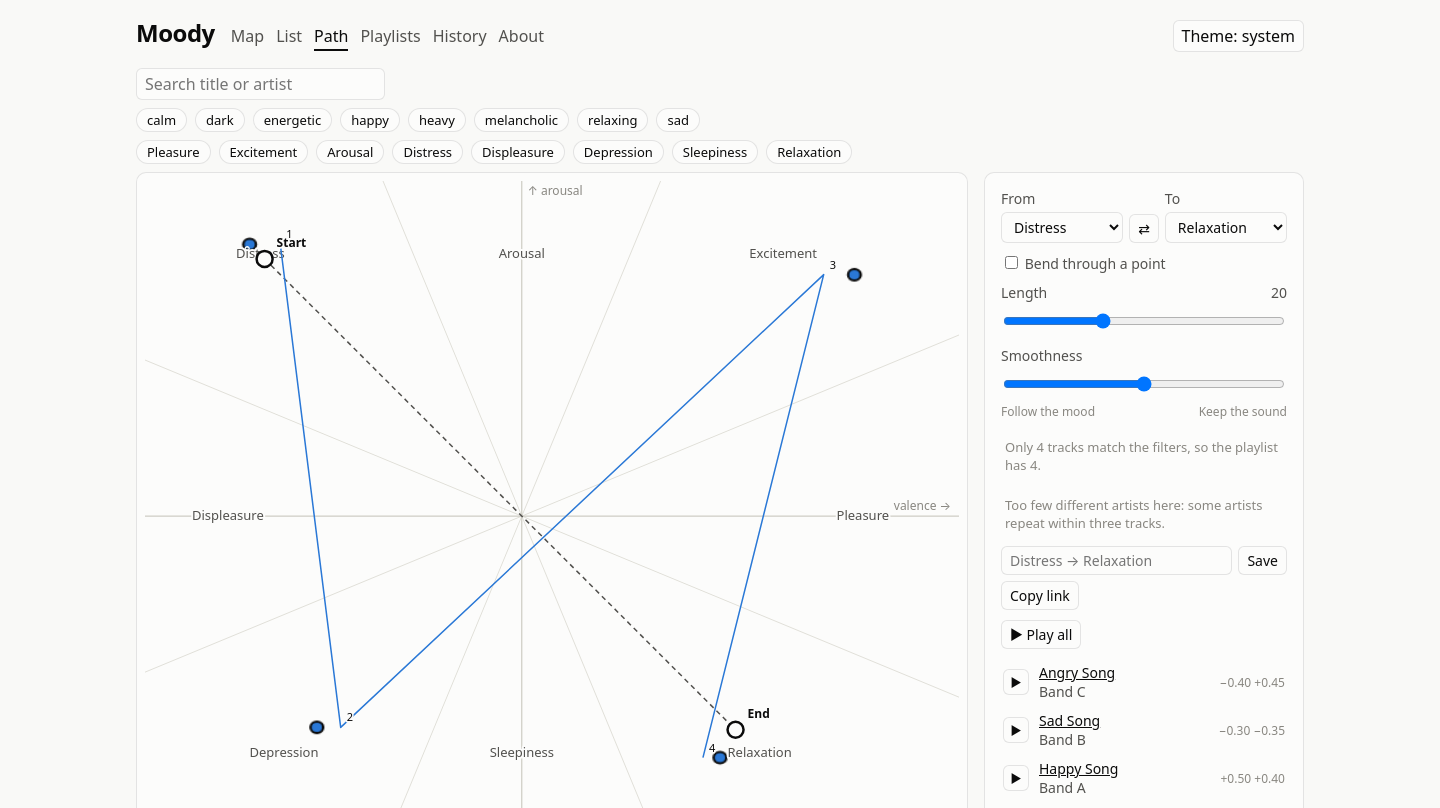
Test: plays the playlist in order
Click the button "▶ Play all" at (1041, 634), box [1001, 620, 1081, 649]
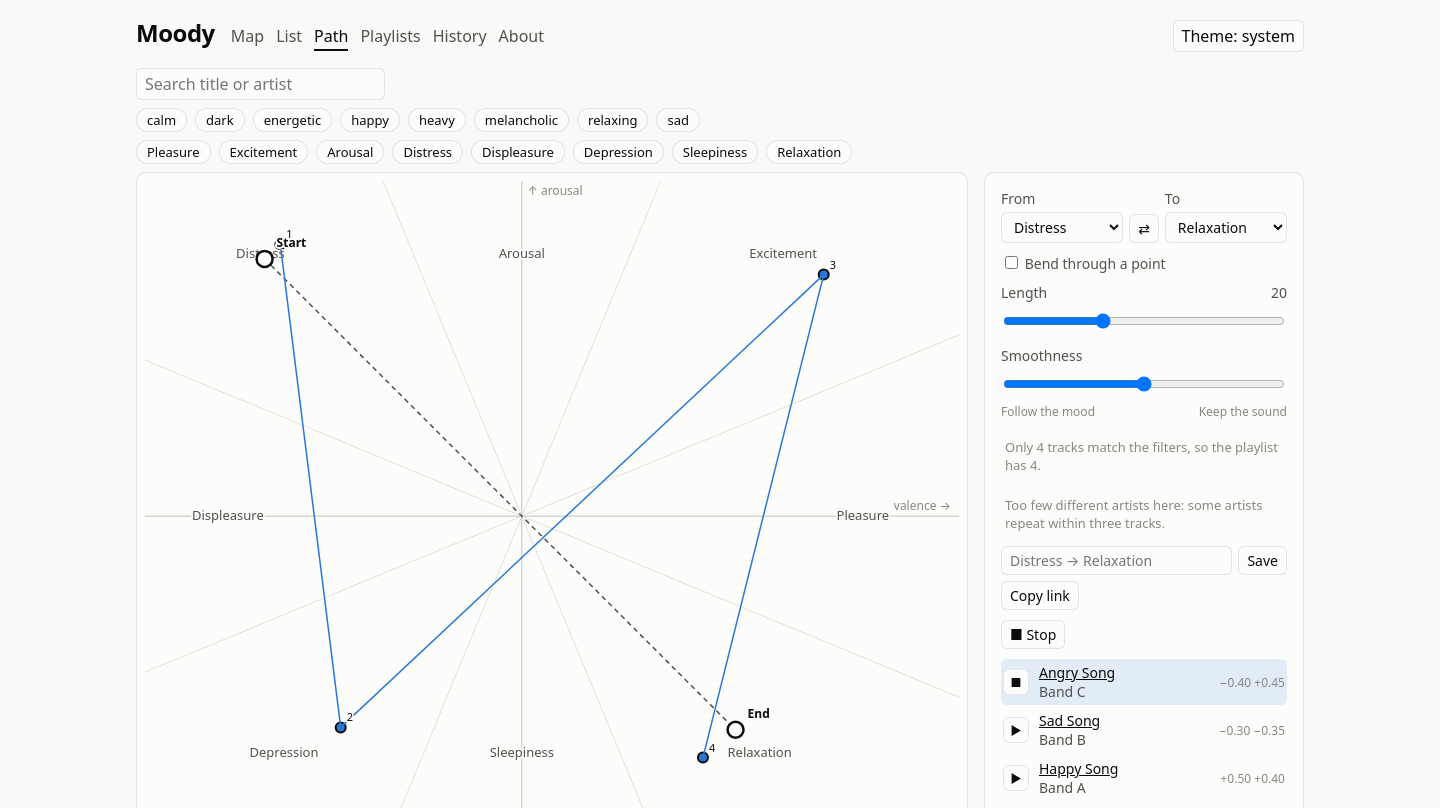
Check: the button "■ Stop" is shown, box [1001, 620, 1065, 649]
